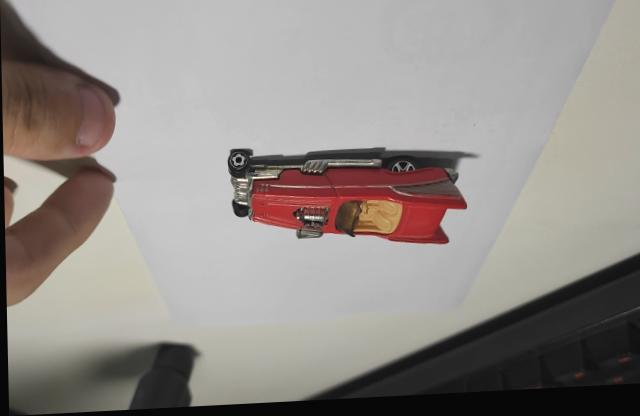03_V8: (226, 150, 476, 249)
